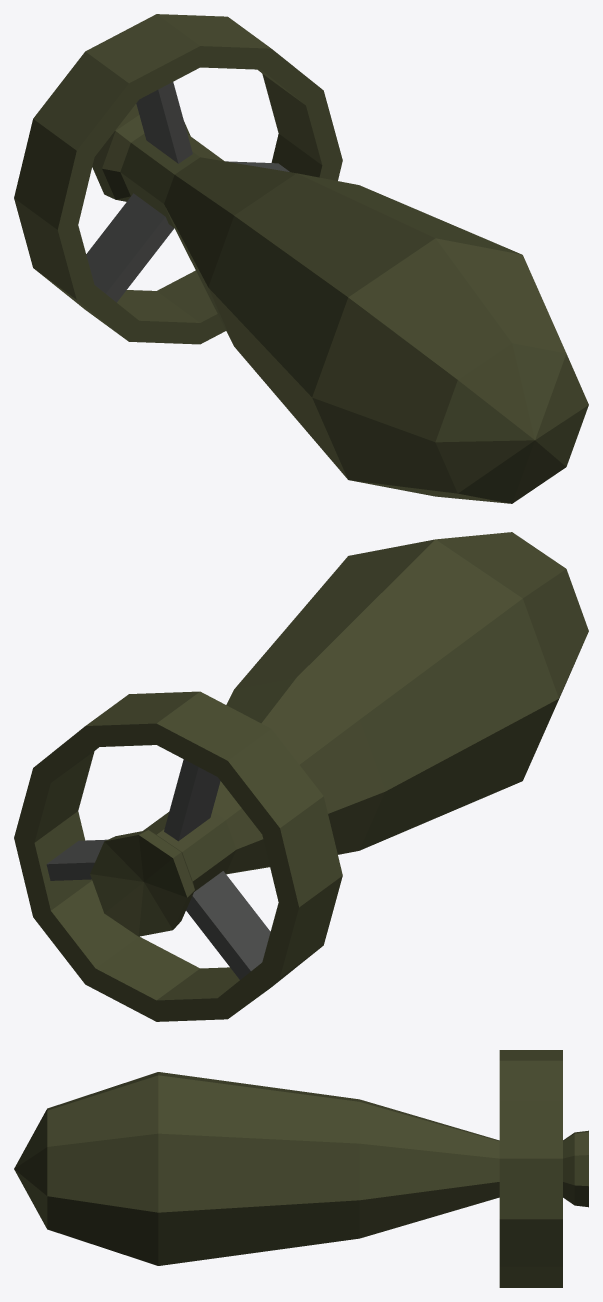
Rendered from LPWarPack_Torpedo.fbx.
The picture shows the model from 3 angles, top to bottom: view 1: azimuth 30°, elevation 25°; view 2: azimuth 150°, elevation 25°; view 3: azimuth 270°, elevation 25°; orthographic projection. The views are drawn at different scales.
Parts seen in each view (by area): view 1: Torpedo; view 2: Torpedo; view 3: Torpedo.
Part boxes in pixels (x1,y1,x2,y2): Torpedo: [14, 14, 588, 503]; Torpedo: [14, 532, 588, 1021]; Torpedo: [14, 1050, 588, 1287].
Bounding box in the file's own units: 81.01 × 81.01 × 195.
